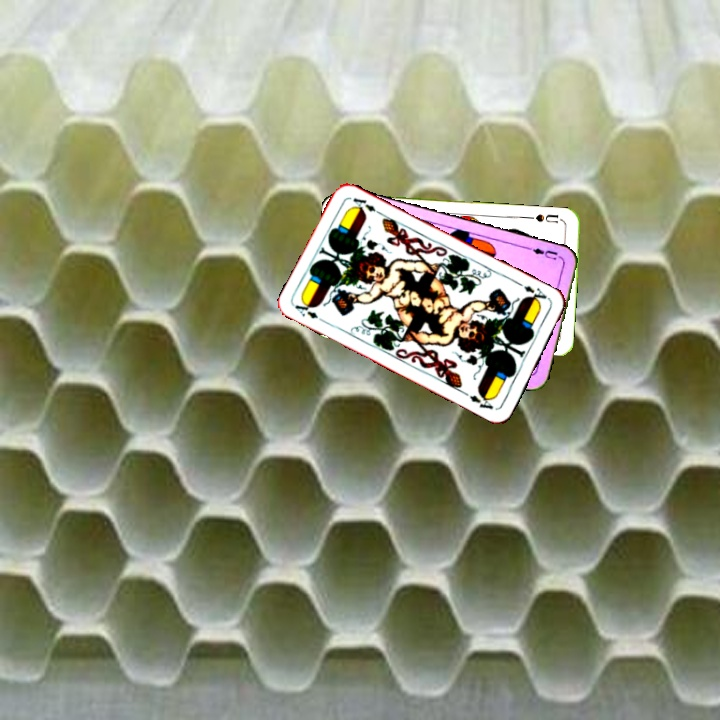EA: (290, 298, 329, 325), (520, 281, 552, 307)
EU: (524, 243, 560, 263)
SU: (525, 210, 561, 225)
